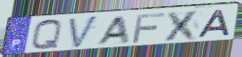A: (94, 15, 132, 47), (196, 8, 232, 39)
F: (131, 12, 167, 44)
Q: (30, 18, 64, 52)
V: (67, 14, 100, 50)
X: (162, 9, 203, 42)
